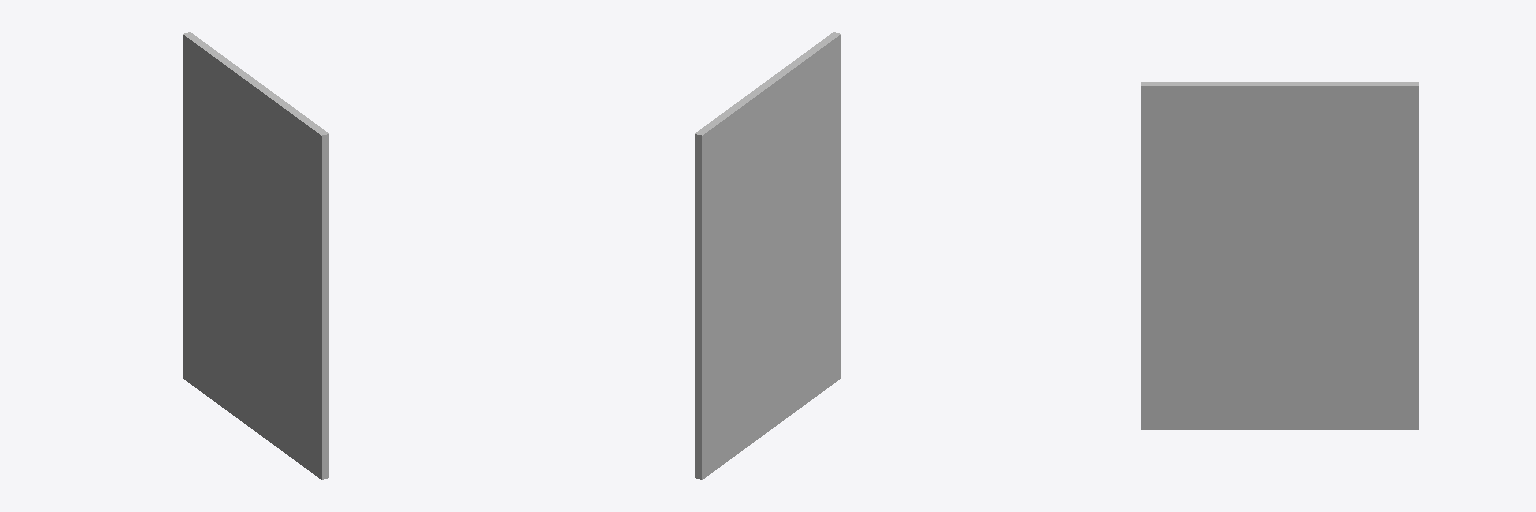
Rendered from van-gogh.obj.
The picture shows the model from 3 angles: view 1: azimuth 30°, elevation 25°; view 2: azimuth 150°, elevation 25°; view 3: azimuth 270°, elevation 25°; orthographic projection.
Parts seen in each view (by area): view 1: Plane; view 2: Plane; view 3: Plane.
Part boxes in pixels (left/top/right/bottom): Plane: left=183, top=32, right=328, bottom=479; Plane: left=695, top=32, right=840, bottom=479; Plane: left=1141, top=82, right=1418, bottom=429.
Size of the model in its own units: 0.0654 by 2.73 by 2.